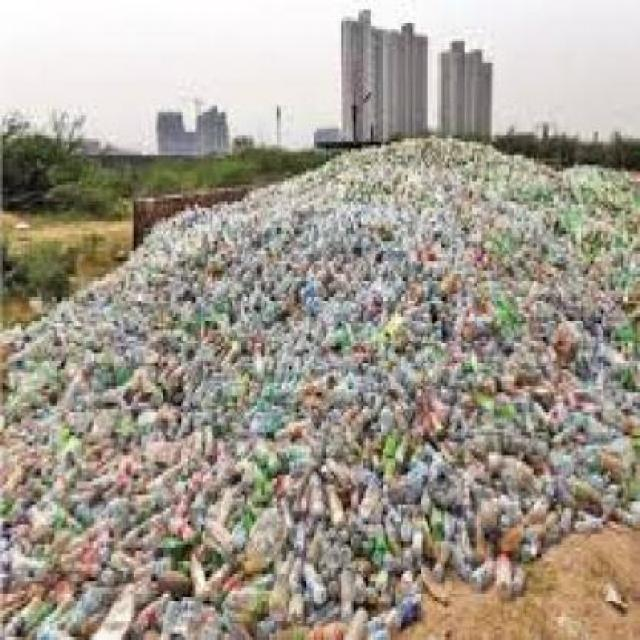garbage: (0, 326, 632, 633), (297, 168, 638, 366), (151, 202, 386, 423), (346, 133, 519, 172), (94, 251, 151, 369)
